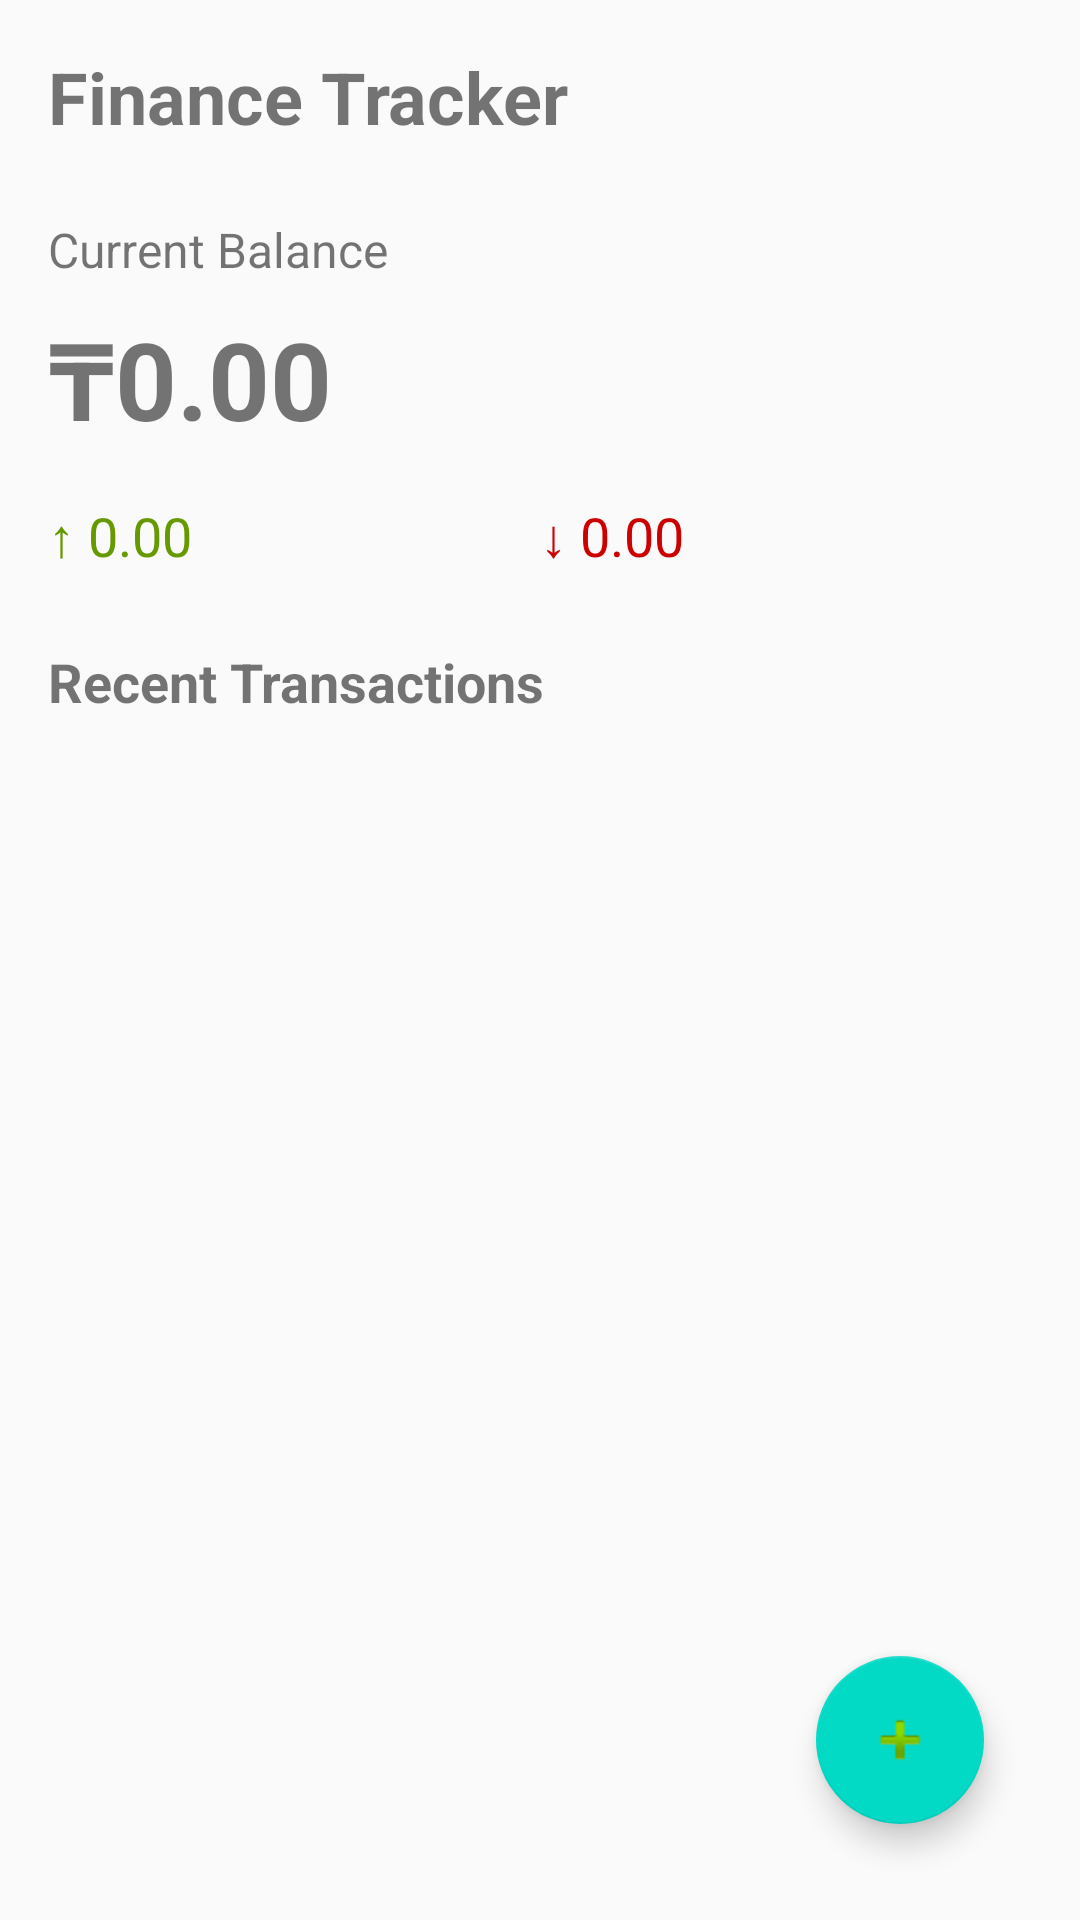

Icons on this 1080 x 1920 Android screen, each with the point to tap as (x=x, y=y):
Add Operation: (x=900, y=1740)
